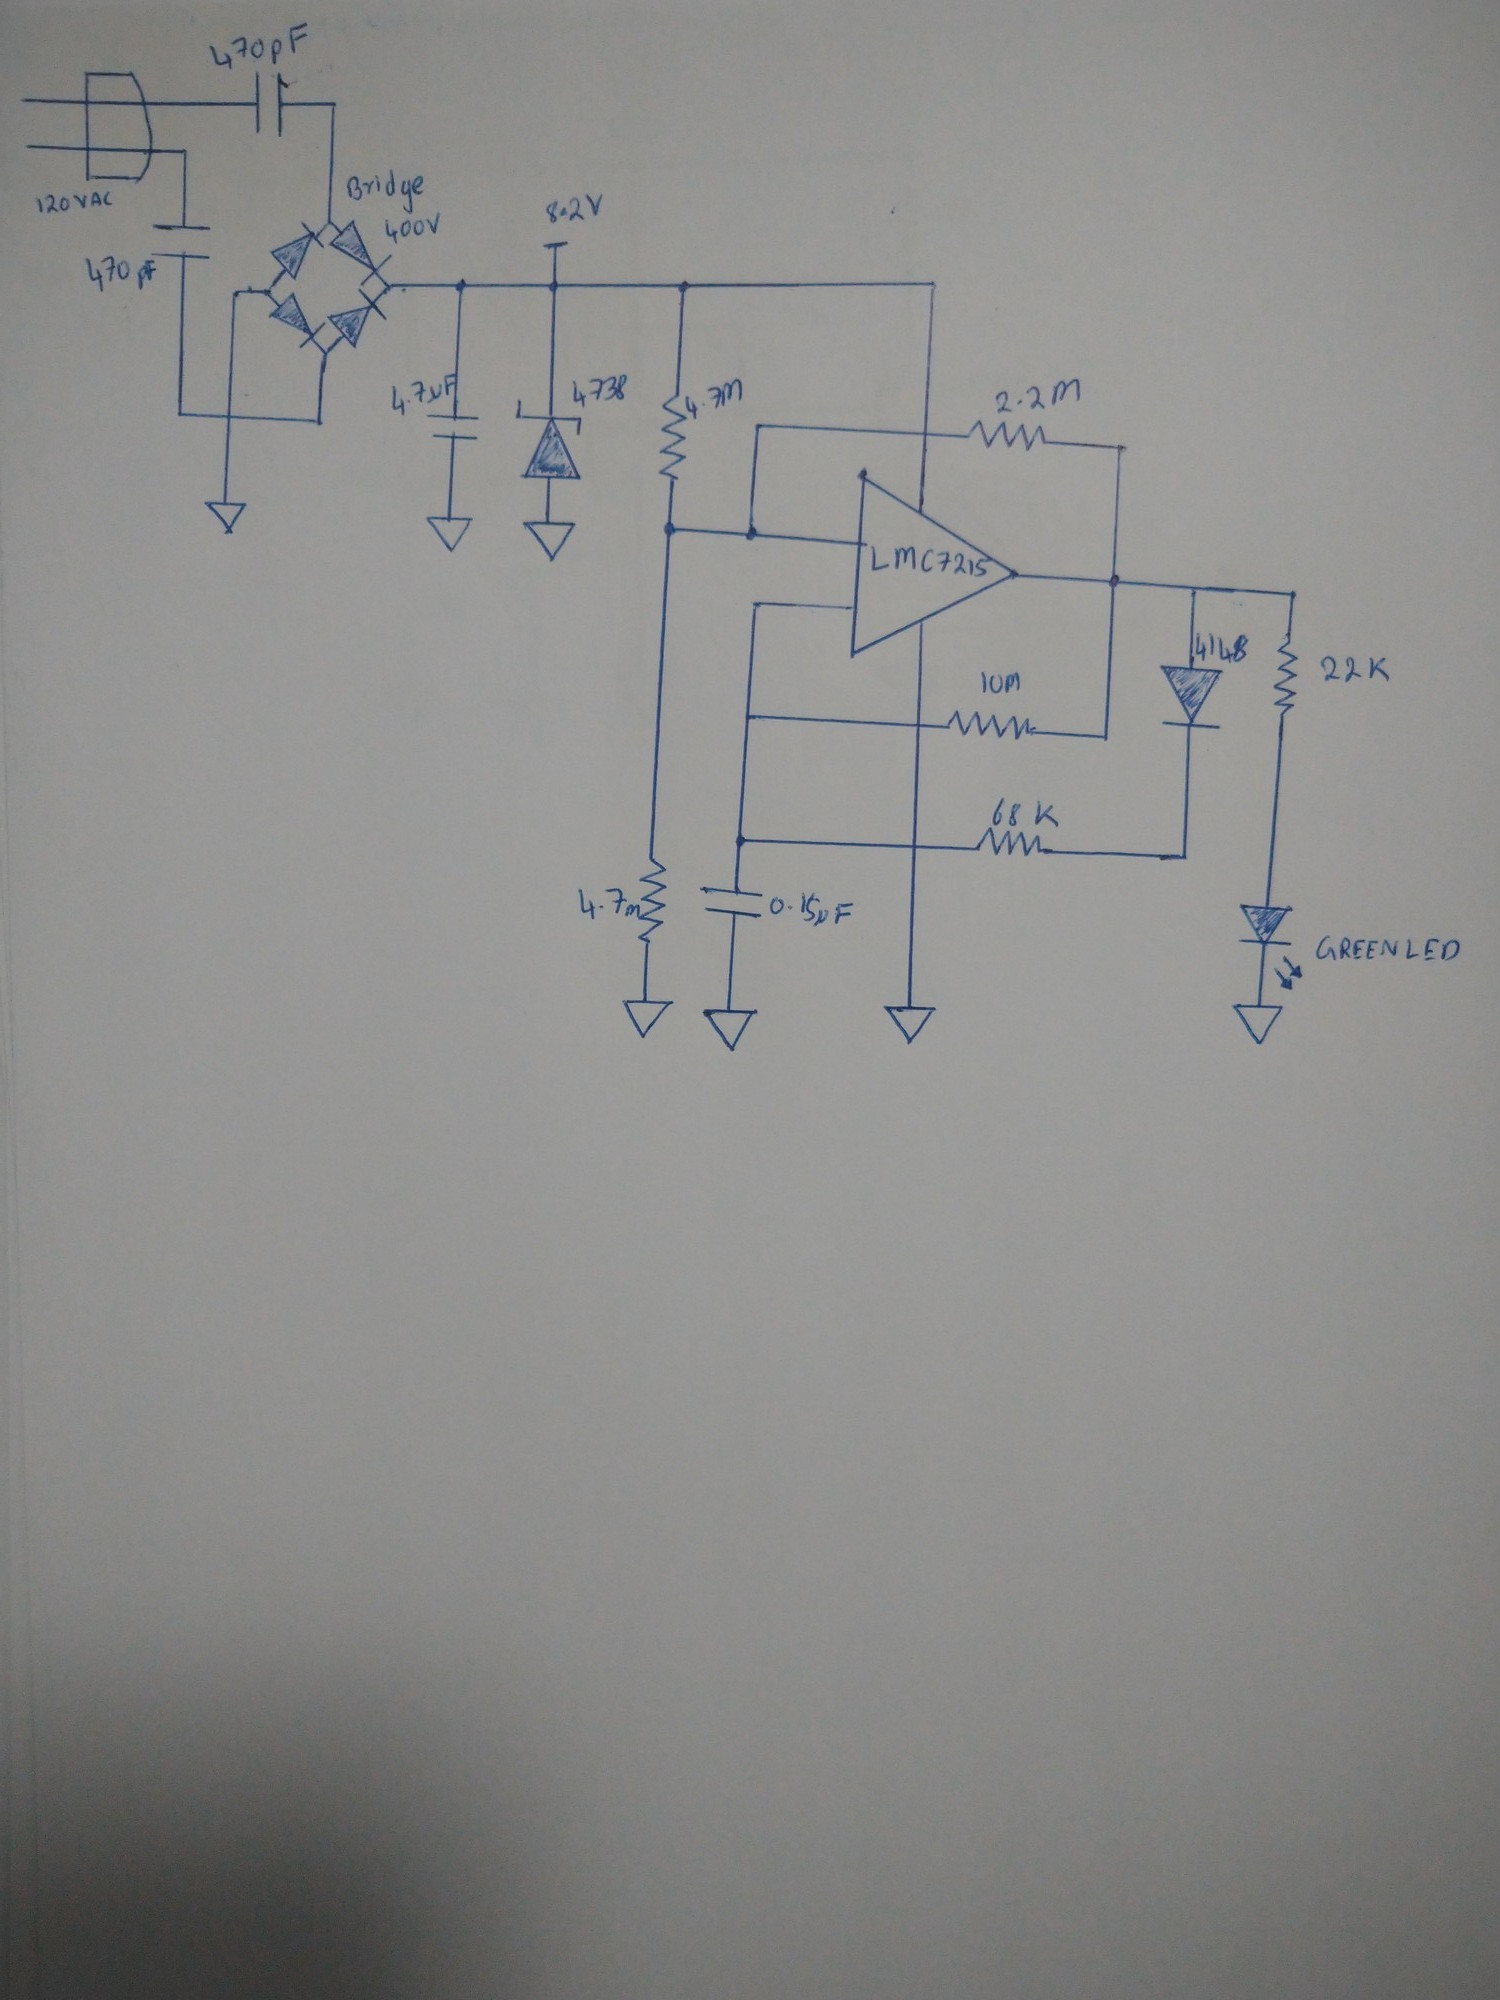capacitor.unpolarized: (150, 220, 214, 261), (254, 69, 288, 140), (698, 885, 763, 921), (425, 413, 482, 443)
crossover: (915, 427, 939, 443), (908, 839, 922, 854), (224, 409, 236, 424), (912, 720, 926, 732)
diode: (514, 398, 586, 483), (1160, 665, 1223, 732), (329, 220, 391, 283), (328, 288, 388, 348), (269, 220, 325, 280), (268, 293, 325, 348)
diode.light_emitting: (1235, 902, 1305, 992)
gnd: (700, 1006, 759, 1054), (520, 518, 578, 564), (882, 1003, 937, 1047), (1234, 1002, 1284, 1046), (622, 997, 673, 1039), (425, 513, 476, 554), (202, 498, 251, 537)
junction: (660, 520, 681, 540), (1105, 572, 1123, 594), (744, 524, 763, 543), (1109, 439, 1130, 457), (1175, 847, 1193, 865), (454, 277, 470, 296), (1098, 728, 1114, 746), (1284, 586, 1303, 602), (733, 831, 748, 850), (676, 279, 693, 294), (1186, 580, 1201, 598), (547, 279, 562, 294), (262, 283, 277, 299), (310, 414, 328, 428), (741, 710, 756, 724), (380, 279, 395, 293), (318, 346, 336, 359), (328, 98, 342, 112), (176, 145, 191, 159), (175, 406, 187, 420), (752, 422, 766, 435), (750, 598, 763, 613), (230, 287, 243, 299), (926, 279, 939, 291), (323, 217, 336, 228)
operational_amplifier: (849, 469, 1019, 658)
resistor: (945, 709, 1037, 743), (659, 392, 692, 482), (967, 419, 1051, 454), (637, 855, 668, 945), (974, 827, 1046, 860), (1272, 639, 1301, 717)
socket: (82, 69, 156, 184)
terminal: (540, 236, 570, 257), (13, 93, 33, 109), (17, 139, 36, 154)
text: (1316, 932, 1464, 965), (208, 24, 310, 68), (865, 542, 991, 576), (345, 169, 429, 211), (769, 891, 854, 929), (575, 882, 638, 928), (994, 380, 1081, 413), (391, 373, 455, 416), (85, 254, 156, 291), (1317, 654, 1393, 687), (685, 380, 745, 419), (989, 797, 1059, 828), (570, 373, 629, 408), (36, 191, 113, 216), (1194, 631, 1253, 665), (386, 213, 443, 244), (547, 194, 603, 224), (978, 669, 1024, 696)
